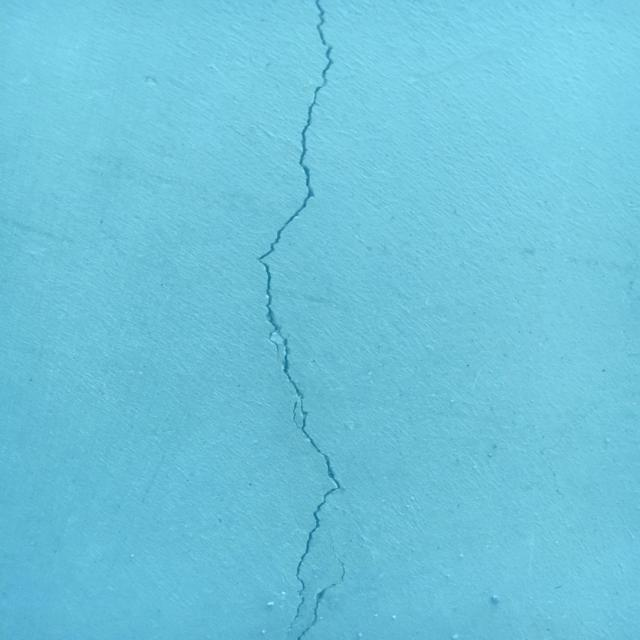crack: (255, 0, 344, 640), (296, 537, 347, 640)
